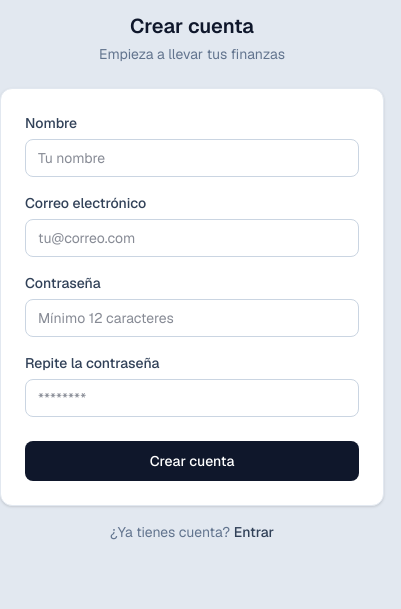
Test: RegisterPage › asks for every field
The width and height of the screenshot is (401, 609).
Click the button "Crear cuenta" at (192, 461), box x1=25 y1=441 x2=359 y2=481
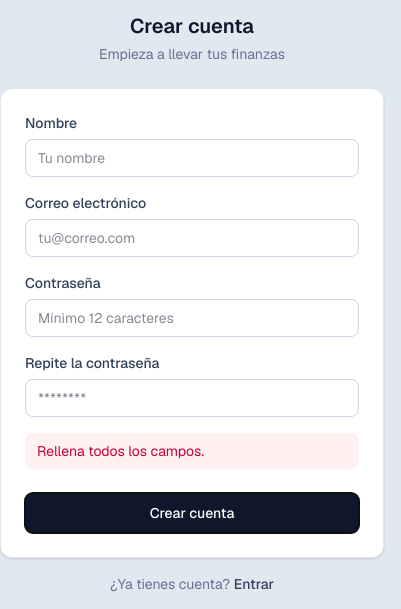
Now the message reads "Rellena todos los campos.", box x1=37 y1=442 x2=204 y2=460
